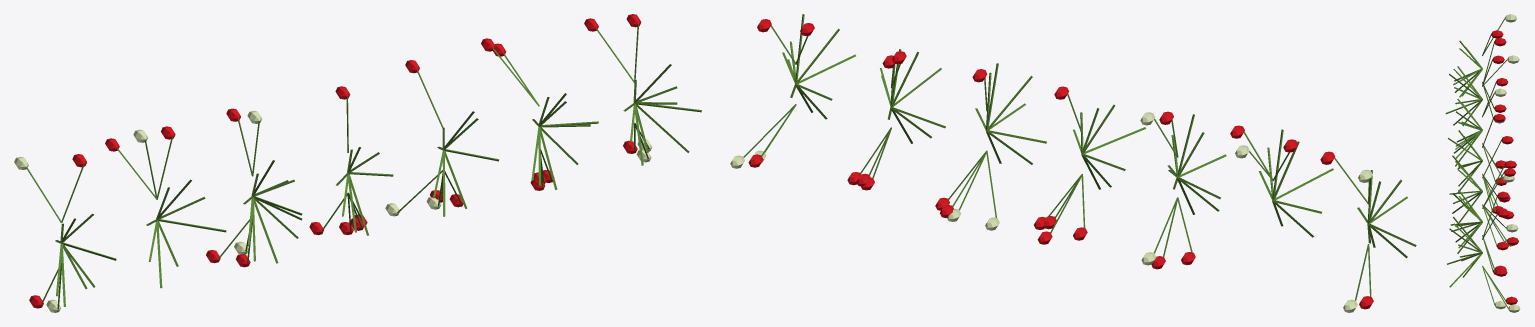
File: r1c3_rest.obj
3 renders of one model, left to right at view 1: azimuth 30°, elevation 25°; view 2: azimuth 150°, elevation 25°; view 3: azimuth 270°, elevation 25°, orthographic. The views are drawn at different scales.
Visible parts, largest first — view 1: r1c3_rest; view 2: r1c3_rest; view 3: r1c3_rest.
Boxes of the visible parts, left/top/right/bottom form: r1c3_rest: left=14, top=14, right=701, bottom=312; r1c3_rest: left=730, top=14, right=1416, bottom=312; r1c3_rest: left=1445, top=14, right=1520, bottom=312.
Size of the model in its own units: 1.68 by 0.3988 by 0.2593.
